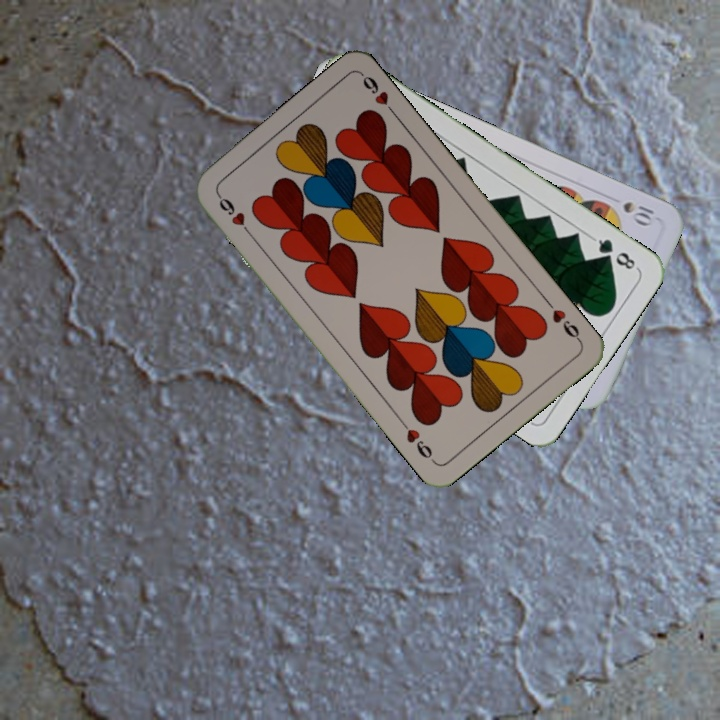G8: (588, 233, 638, 273)
H9: (213, 189, 255, 240), (542, 296, 584, 345)
S10: (618, 197, 657, 229)
